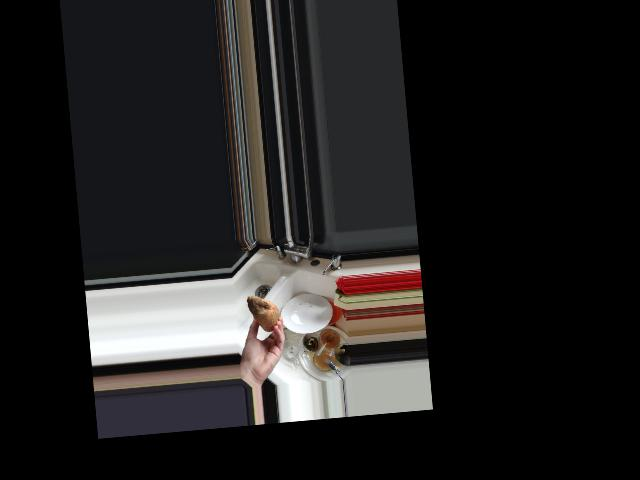sweet_potato: (243, 293, 281, 333)
